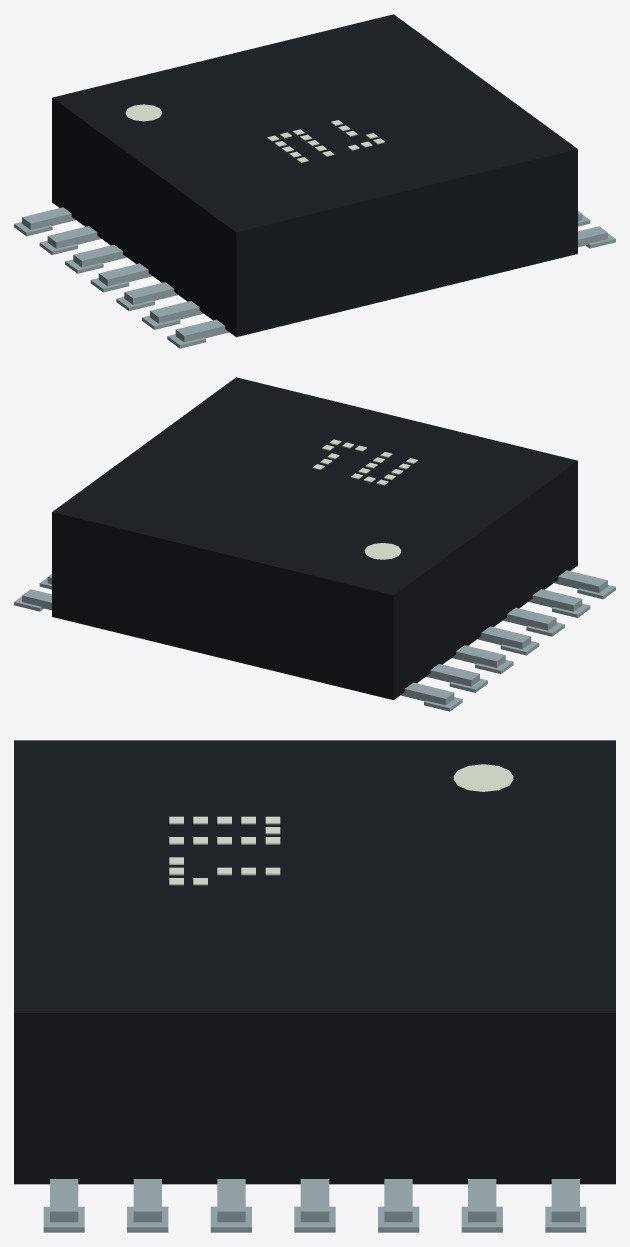
The picture shows the model from 3 angles, top to bottom: view 1: azimuth 30°, elevation 25°; view 2: azimuth 150°, elevation 25°; view 3: azimuth 270°, elevation 25°; orthographic projection. The views are drawn at different scales.
Visible parts, largest first — view 1: U7_molded_body, U7_gullwing__1_6, U7_gullwing__1_1, U7_gullwing__1_3, U7_gullwing__1_2, U7_gullwing__1_4, U7_gullwing__1_0, U7_gullwing__1_5, U7_pin1_dot; view 2: U7_molded_body, U7_gullwing__1_0, U7_gullwing__1_3, U7_gullwing__1_5, U7_gullwing__1_4, U7_gullwing__1_2, U7_gullwing__1_6, U7_gullwing__1_1, U7_pin1_dot; view 3: U7_molded_body, U7_pin1_dot, U7_gullwing_1_3, U7_gullwing_1_2, U7_gullwing_1_4, U7_gullwing_1_0, U7_gullwing_1_1, U7_gullwing_1_5, U7_gullwing_1_6, U7_solder_1_2, U7_solder_1_4, U7_solder_1_3 (+4 smaller).
Part boxes in pixels (x1=…): U7_molded_body: x1=52, y1=14, x2=577, y2=337; U7_gullwing__1_6: x1=175, y1=319, x2=229, y2=342; U7_gullwing__1_1: x1=47, y1=226, x2=101, y2=248; U7_gullwing__1_3: x1=98, y1=263, x2=152, y2=286; U7_gullwing__1_2: x1=73, y1=245, x2=126, y2=267; U7_gullwing__1_4: x1=124, y1=282, x2=177, y2=304; U7_gullwing__1_0: x1=22, y1=207, x2=75, y2=229; U7_gullwing__1_5: x1=150, y1=301, x2=203, y2=323; U7_pin1_dot: x1=125, y1=104, x2=161, y2=121; U7_molded_body: x1=52, y1=377, x2=577, y2=700; U7_gullwing__1_0: x1=400, y1=682, x2=454, y2=705; U7_gullwing__1_3: x1=477, y1=626, x2=531, y2=649; U7_gullwing__1_5: x1=528, y1=589, x2=582, y2=611; U7_gullwing__1_4: x1=503, y1=608, x2=556, y2=630; U7_gullwing__1_2: x1=452, y1=645, x2=505, y2=667; U7_gullwing__1_6: x1=554, y1=570, x2=607, y2=592; U7_gullwing__1_1: x1=426, y1=664, x2=479, y2=686; U7_pin1_dot: x1=364, y1=543, x2=401, y2=559; U7_molded_body: x1=14, y1=740, x2=615, y2=1184; U7_pin1_dot: x1=453, y1=764, x2=513, y2=791; U7_gullwing_1_3: x1=300, y1=1179, x2=329, y2=1222; U7_gullwing_1_2: x1=384, y1=1179, x2=412, y2=1222; U7_gullwing_1_4: x1=217, y1=1179, x2=245, y2=1222; U7_gullwing_1_0: x1=551, y1=1179, x2=579, y2=1222; U7_gullwing_1_1: x1=468, y1=1179, x2=496, y2=1222; U7_gullwing_1_5: x1=133, y1=1179, x2=161, y2=1222; U7_gullwing_1_6: x1=50, y1=1179, x2=78, y2=1222; U7_solder_1_2: x1=378, y1=1206, x2=419, y2=1232; U7_solder_1_4: x1=210, y1=1206, x2=251, y2=1232; U7_solder_1_3: x1=294, y1=1206, x2=335, y2=1232.
Size of the model in its own units: 0.00957 by 0.00251 by 0.007.
